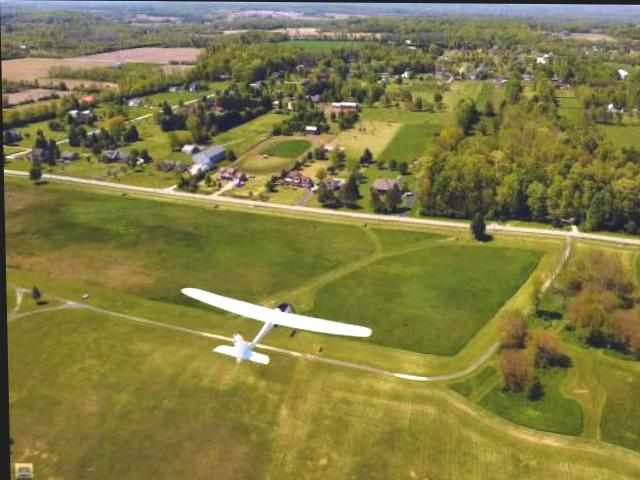uav: (173, 280, 383, 374)
